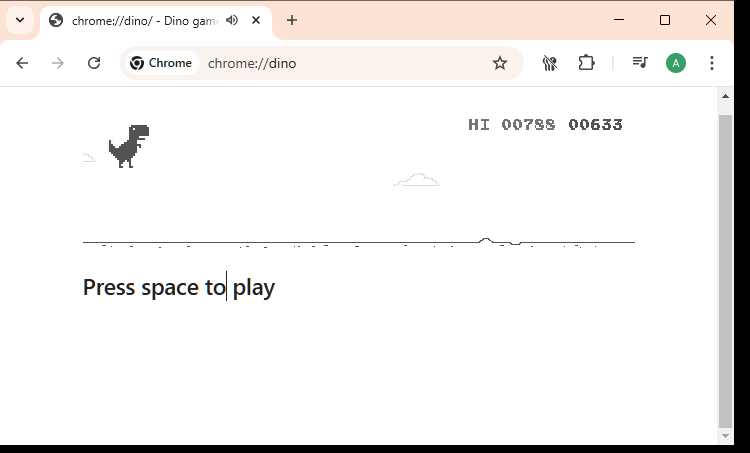dino: (108, 124, 150, 170)
